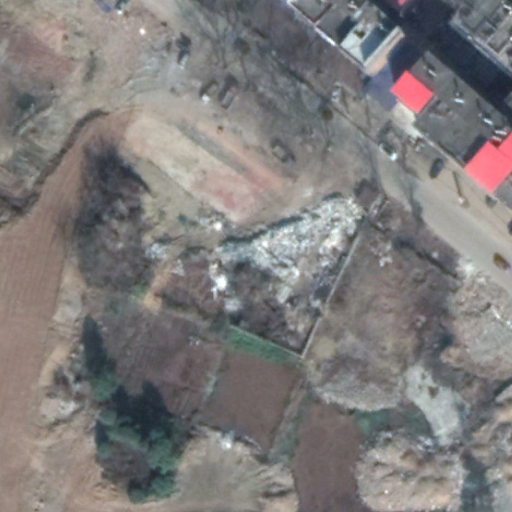msw: (212, 199, 366, 318)
